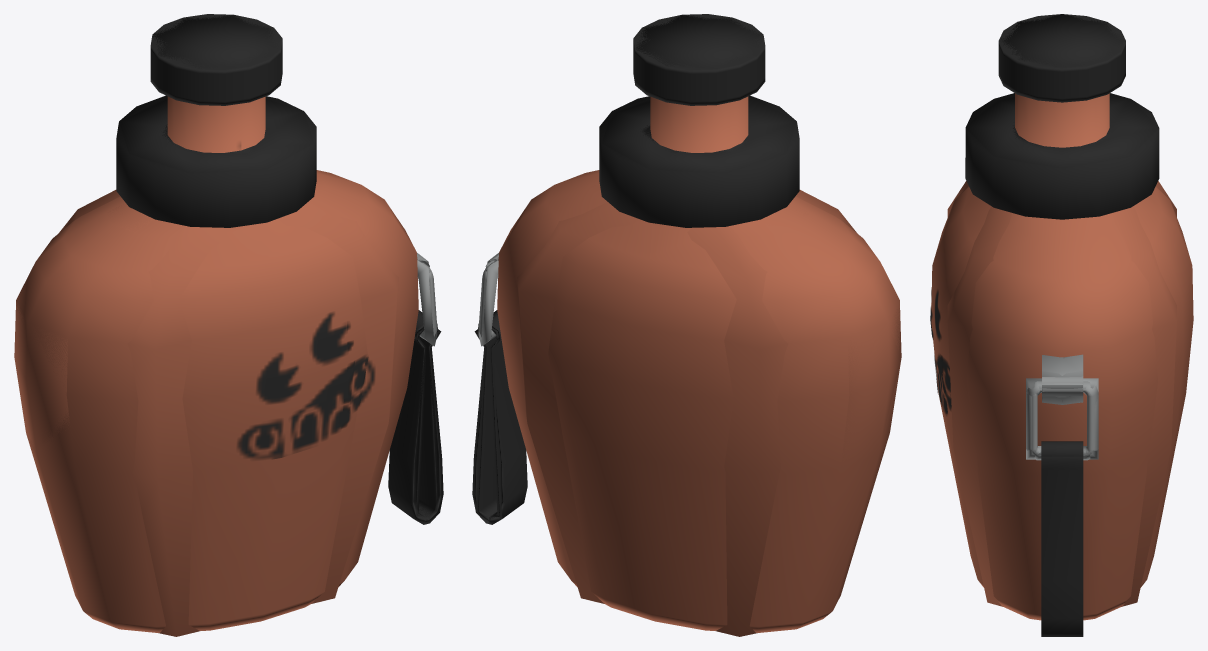
The model's file is pi_waterbottle05_03.gltf.
3 renders of one model, left to right at view 1: azimuth 30°, elevation 25°; view 2: azimuth 150°, elevation 25°; view 3: azimuth 270°, elevation 25°, orthographic. The views are drawn at different scales.
Parts seen in each view (by area): view 1: um_pi_waterbottle05_03_model_lod0Shape:pi_waterbottle05_main, um_pi_waterbottle05_03_model_lod2Shape:pi_waterbottle05_main, um_pi_waterbottle05_03_model_lod1Shape:pi_waterbottle05_main, um_pi_waterbottle05_03_model_lod0Shape:pi_waterbottle05_alph; view 2: um_pi_waterbottle05_03_model_lod0Shape:pi_waterbottle05_main, um_pi_waterbottle05_03_model_lod2Shape:pi_waterbottle05_main, um_pi_waterbottle05_03_model_lod1Shape:pi_waterbottle05_main; view 3: um_pi_waterbottle05_03_model_lod0Shape:pi_waterbottle05_main, um_pi_waterbottle05_03_model_lod2Shape:pi_waterbottle05_main, um_pi_waterbottle05_03_model_lod1Shape:pi_waterbottle05_main, um_pi_waterbottle05_03_model_lod0Shape:pi_waterbottle05_alph.
Boxes of the visible parts, x1,y1,x2,y2 form: um_pi_waterbottle05_03_model_lod0Shape:pi_waterbottle05_main: (16,14,443,632); um_pi_waterbottle05_03_model_lod2Shape:pi_waterbottle05_main: (58,110,441,636); um_pi_waterbottle05_03_model_lod1Shape:pi_waterbottle05_main: (14,15,438,620); um_pi_waterbottle05_03_model_lod0Shape:pi_waterbottle05_alph: (237,312,368,459); um_pi_waterbottle05_03_model_lod0Shape:pi_waterbottle05_main: (472,14,900,632); um_pi_waterbottle05_03_model_lod2Shape:pi_waterbottle05_main: (474,111,857,636); um_pi_waterbottle05_03_model_lod1Shape:pi_waterbottle05_main: (476,14,901,523); um_pi_waterbottle05_03_model_lod0Shape:pi_waterbottle05_main: (931,14,1193,636); um_pi_waterbottle05_03_model_lod2Shape:pi_waterbottle05_main: (947,126,1176,606); um_pi_waterbottle05_03_model_lod1Shape:pi_waterbottle05_main: (966,14,1158,458); um_pi_waterbottle05_03_model_lod0Shape:pi_waterbottle05_alph: (930,290,951,414).
Bounding box in the file's own units: 0.2433 × 0.3128 × 0.1423.
Materials: 2 (2 with a texture image).
